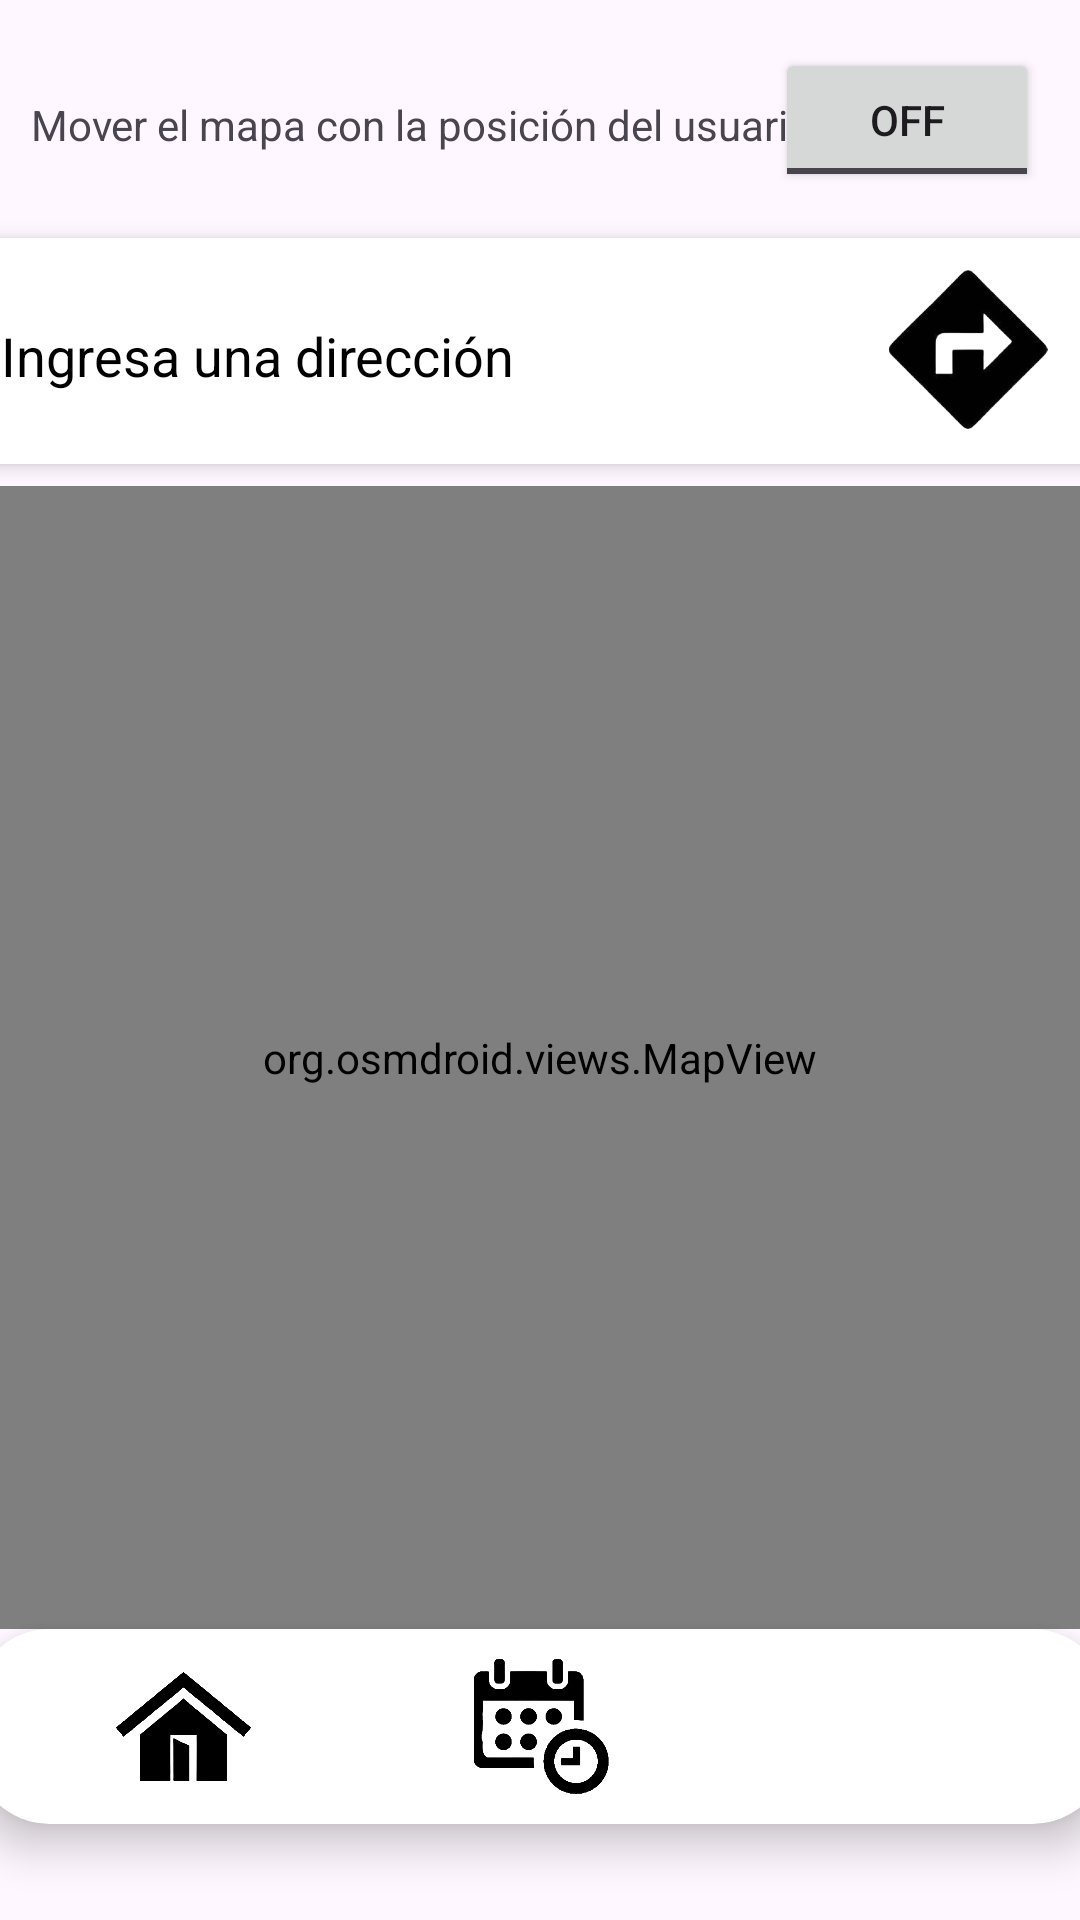

Locate icon controls on the screen. Image size 1080px×1920px, boxes as (x1,y1,x2,y2).
casa: (116,1672,251,1781)
direction: (889,270,1048,429)
